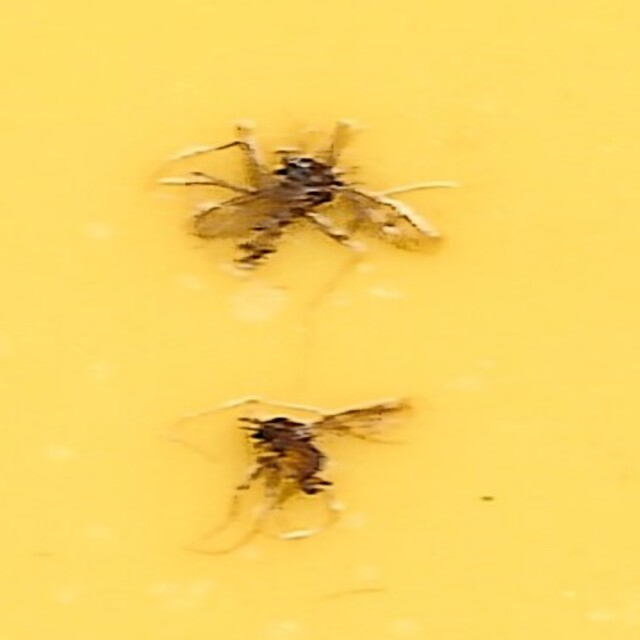Nematocera: (178, 129, 462, 287), (226, 383, 442, 511)
